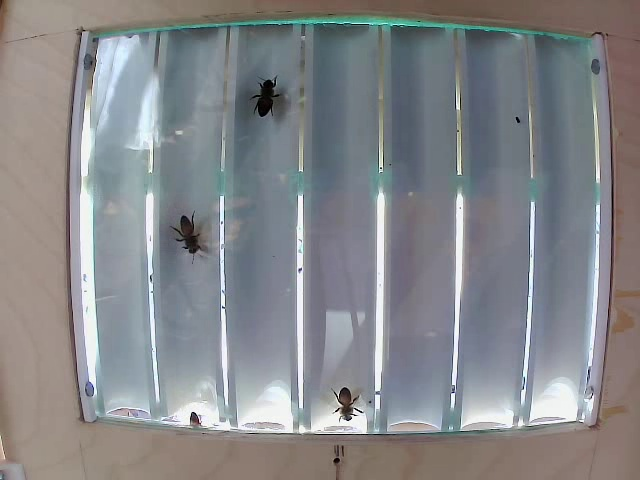bee: (166, 206, 225, 274), (250, 76, 290, 139)
